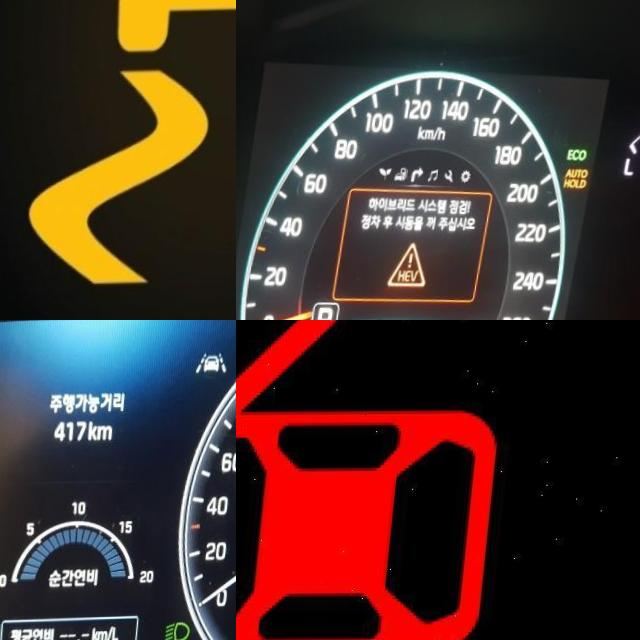LaneCenteringOff: (198, 351, 229, 376)
Low beam: (171, 620, 198, 640)
